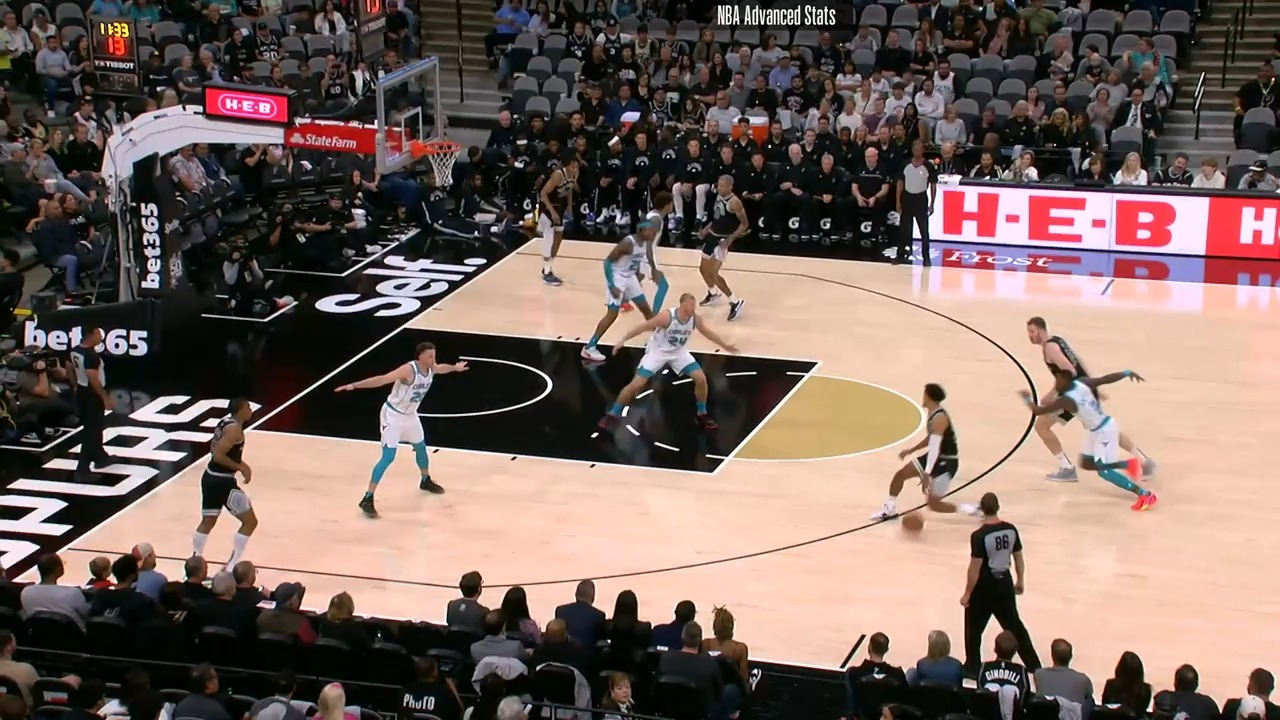net: (407, 137, 462, 187)
player: (334, 338, 471, 521), (1023, 360, 1160, 520), (600, 293, 743, 433), (881, 381, 982, 537), (190, 392, 272, 581), (1015, 315, 1094, 492), (579, 221, 662, 368), (693, 173, 756, 328), (533, 154, 582, 292), (640, 195, 684, 332)
referee: (951, 493, 1043, 671), (59, 318, 115, 479), (896, 144, 940, 273)
